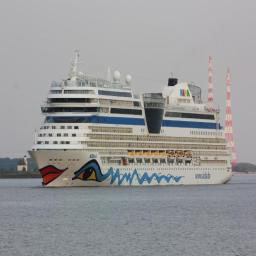cruises: (28, 54, 238, 191)
